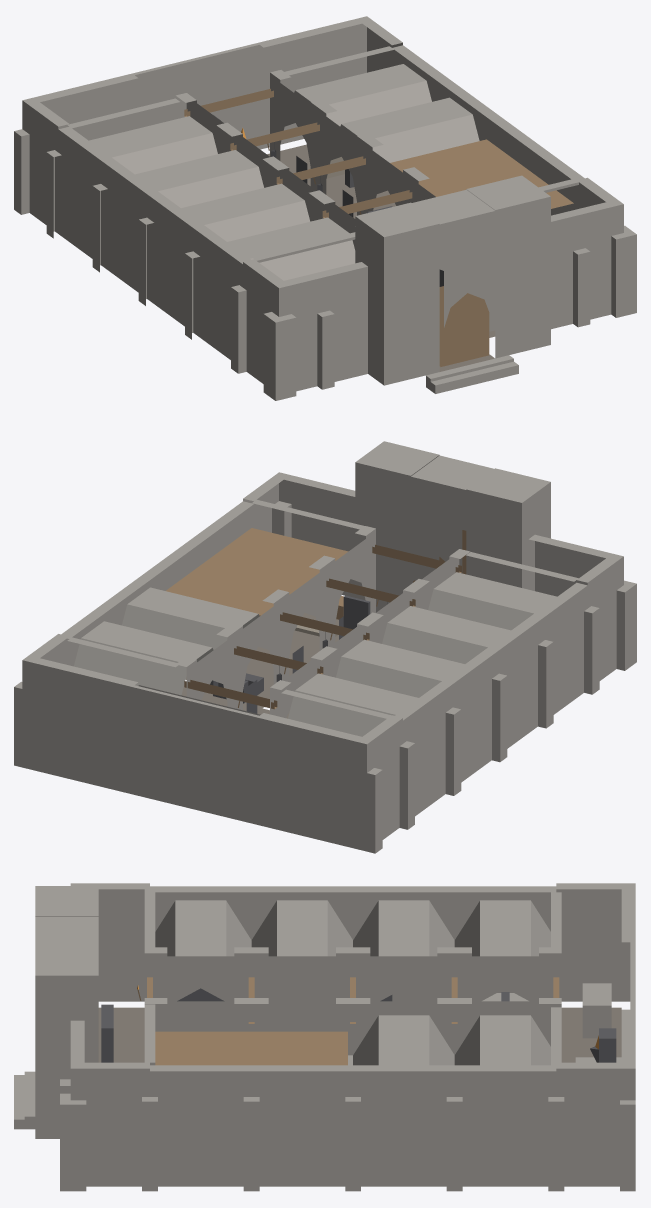
Rendered from ThePit_LOD0.dae.
The picture shows the model from 3 angles, top to bottom: view 1: azimuth 30°, elevation 25°; view 2: azimuth 150°, elevation 25°; view 3: azimuth 270°, elevation 25°; orthographic projection. The views are drawn at different scales.
Visible parts, largest first — view 1: G_Tower_W_LOD0, G_Wall_W_LOD0, G_Tower_E_LOD0, G_Wall_E_LOD0, N_Back_C_LOD0, G_Arch_LOD0, C02_Wall_LOD0, C03_Wall_LOD0, C04_Wall_LOD0, C07_Vault_LOD0, N_Back_E_LOD0, C01_Wall_LOD0 (+33 smaller); view 2: N_Back_C_LOD0, N_Back_W_LOD0, N_Back_E_LOD0, G_Tower_W_LOD0, C05_Roof_LOD0, G_Tower_E_LOD0, C03_Wall_LOD0, C04_Wall_LOD0, C08_Vault_LOD0, C02_Wall_LOD0, C01_Wall_LOD0, G_Arch_LOD0 (+36 smaller); view 3: C05_Wall_LOD0, C08_Wall_LOD0, C07_Wall_LOD0, N_Wall_E_LOD0, G_Tower_E_LOD0, V_Wall_E_LOD0, N_Wall_W_LOD0, C05_Roof_LOD0, V_Wall_W_LOD0, C03_Vault_LOD0, C02_Vault_LOD0, C01_Vault_LOD0 (+40 smaller).
Part boxes in pixels (left/top/right/bottom): G_Tower_W_LOD0: left=355, top=202, right=439, bottom=385; G_Wall_W_LOD0: left=263, top=262, right=367, bottom=400; G_Tower_E_LOD0: left=466, top=175, right=550, bottom=358; G_Wall_E_LOD0: left=551, top=199, right=636, bottom=329; N_Back_C_LOD0: left=132, top=43, right=263, bottom=146; G_Arch_LOD0: left=412, top=189, right=495, bottom=327; C02_Wall_LOD0: left=138, top=194, right=207, bottom=334; C03_Wall_LOD0: left=92, top=160, right=161, bottom=301; C04_Wall_LOD0: left=46, top=126, right=115, bottom=267; C07_Vault_LOD0: left=340, top=97, right=479, bottom=162; N_Back_E_LOD0: left=257, top=19, right=361, bottom=149; C01_Wall_LOD0: left=185, top=228, right=250, bottom=359; N_Back_C_LOD0: left=132, top=685, right=260, bottom=824; N_Back_W_LOD0: left=257, top=713, right=361, bottom=848; N_Back_E_LOD0: left=33, top=658, right=137, bottom=794; G_Tower_W_LOD0: left=466, top=468, right=550, bottom=590; C05_Roof_LOD0: left=166, top=528, right=348, bottom=615; G_Tower_E_LOD0: left=355, top=441, right=439, bottom=612; C03_Wall_LOD0: left=438, top=650, right=495, bottom=795; C04_Wall_LOD0: left=395, top=684, right=449, bottom=829; C08_Vault_LOD0: left=74, top=621, right=213, bottom=695; C02_Wall_LOD0: left=484, top=616, right=541, bottom=762; C01_Wall_LOD0: left=531, top=582, right=587, bottom=728; G_Arch_LOD0: left=411, top=455, right=493, bottom=579; C05_Wall_LOD0: left=150, top=1065, right=360, bottom=1191; C08_Wall_LOD0: left=454, top=1065, right=564, bottom=1191; C07_Wall_LOD0: left=353, top=1065, right=462, bottom=1191; N_Wall_E_LOD0: left=556, top=1062, right=635, bottom=1191; G_Tower_E_LOD0: left=35, top=945, right=98, bottom=1138; V_Wall_E_LOD0: left=84, top=1062, right=157, bottom=1191; N_Wall_W_LOD0: left=556, top=883, right=635, bottom=1001; C05_Roof_LOD0: left=155, top=1031, right=347, bottom=1065; V_Wall_W_LOD0: left=84, top=883, right=149, bottom=1001; C03_Vault_LOD0: left=353, top=900, right=454, bottom=956; C02_Vault_LOD0: left=251, top=900, right=352, bottom=956; C01_Vault_LOD0: left=155, top=900, right=251, bottom=956.
Bounding box in the file's own units: 26 × 35.27 × 11.
